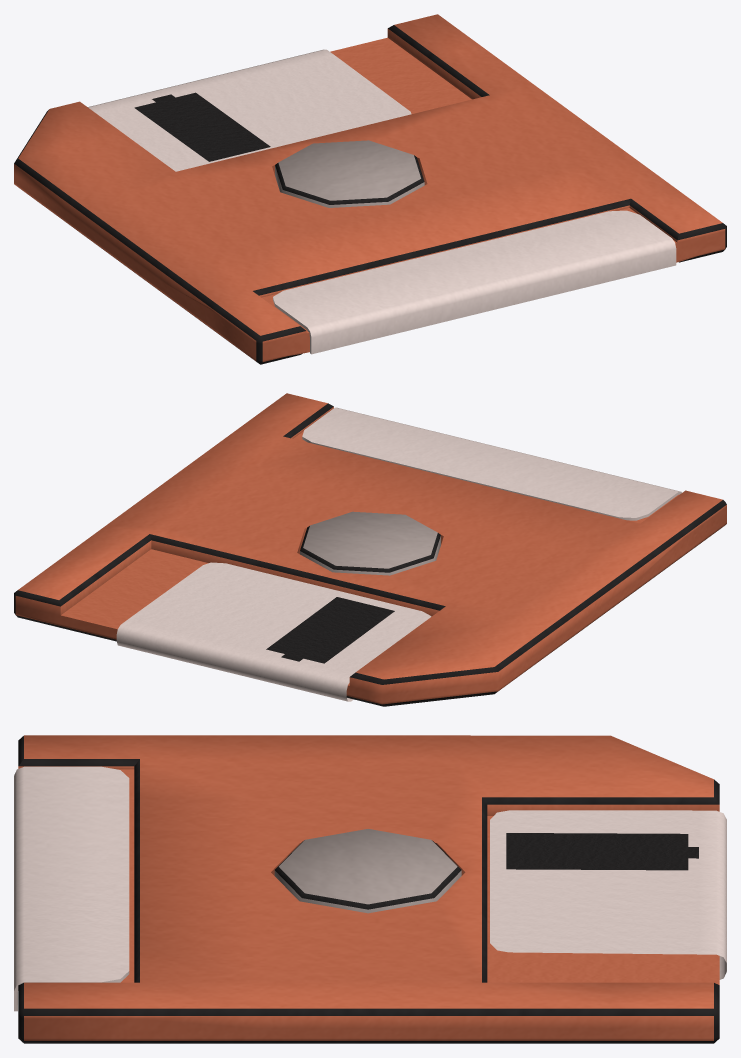
The model's file is FloppyDiskSave.fbx.
The picture shows the model from 3 angles, top to bottom: view 1: azimuth 30°, elevation 25°; view 2: azimuth 150°, elevation 25°; view 3: azimuth 270°, elevation 25°; orthographic projection. The views are drawn at different scales.
Parts seen in each view (by area): view 1: Plane; view 2: Plane; view 3: Plane.
Boxes of the visible parts, <box> form: Plane: <box>14,14,726,364</box>; Plane: <box>14,393,726,706</box>; Plane: <box>14,735,726,1043</box>.
Bounding box in the file's own units: 188 × 13.67 × 203.
